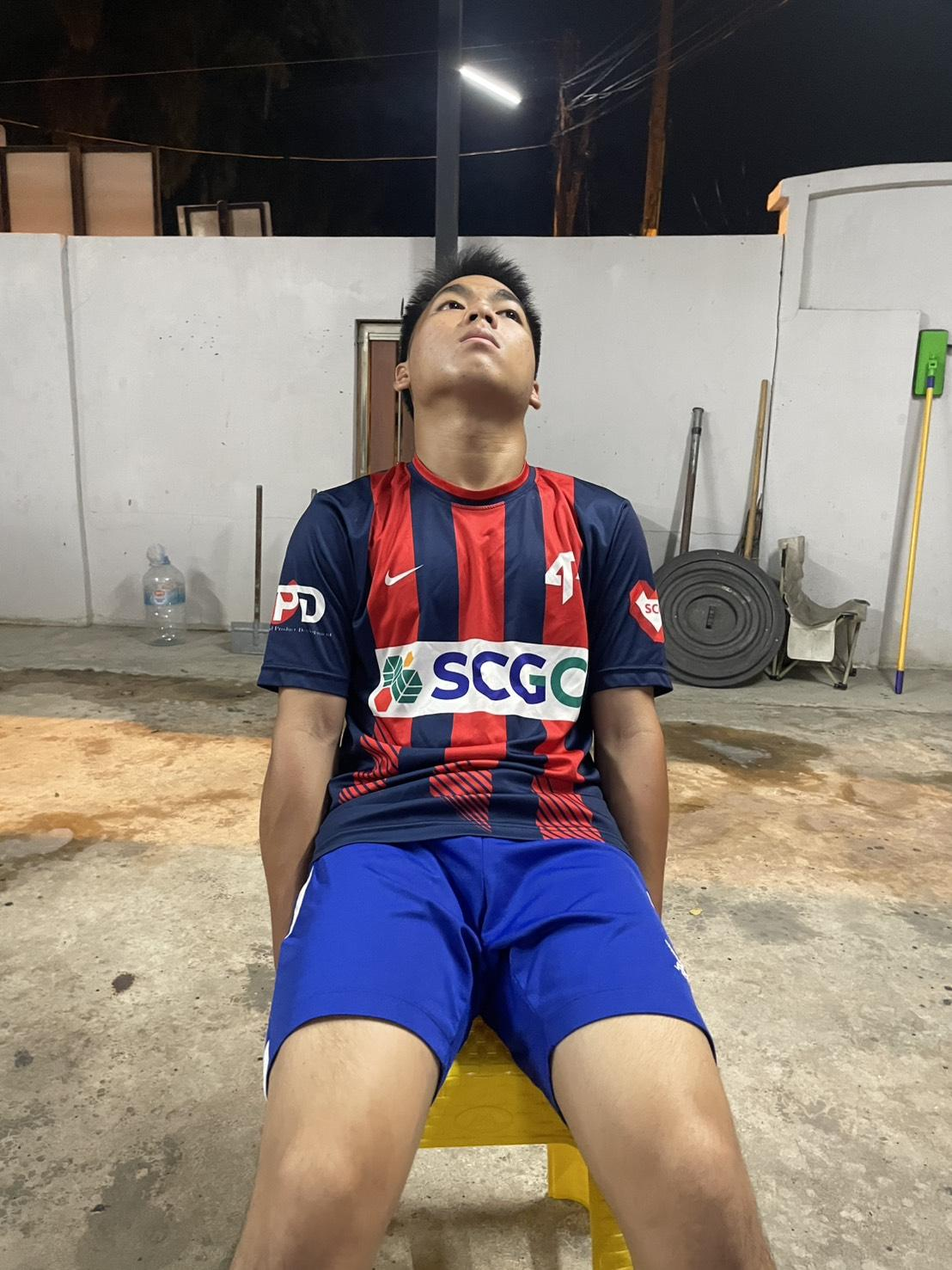BadPosture: (259, 248, 670, 858)
